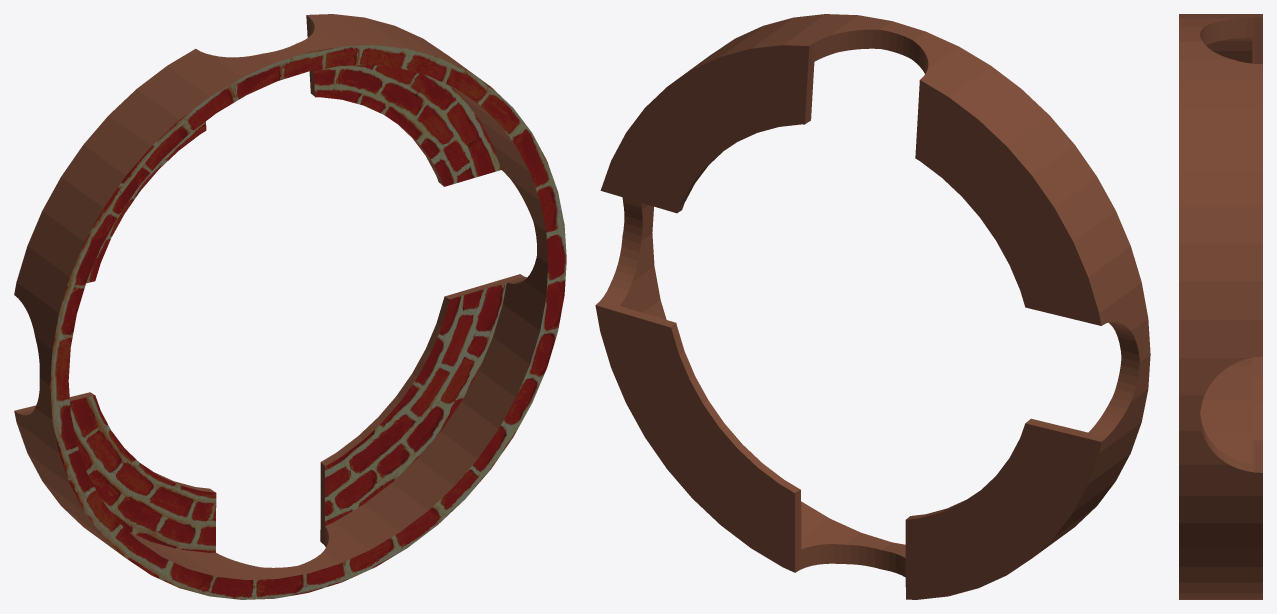
Rendered from pool_081.obj.
3 views of the same model, side by side, from view 1: azimuth 30°, elevation 25°; view 2: azimuth 150°, elevation 25°; view 3: azimuth 270°, elevation 25° (orthographic).
Size of the model in its own units: 28 by 28 by 4.
Materials: 1 (1 with a texture image).
